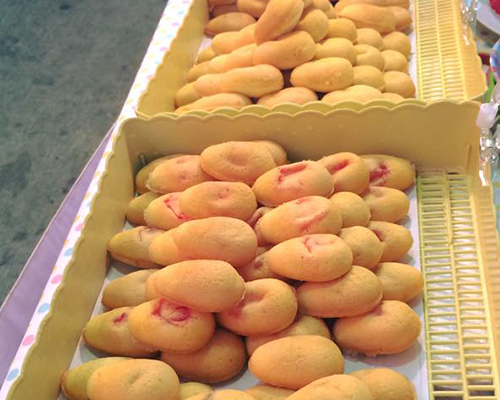kanomkai: (245, 326, 353, 392), (169, 214, 263, 274), (259, 232, 358, 288), (200, 135, 287, 192), (85, 352, 180, 400)
